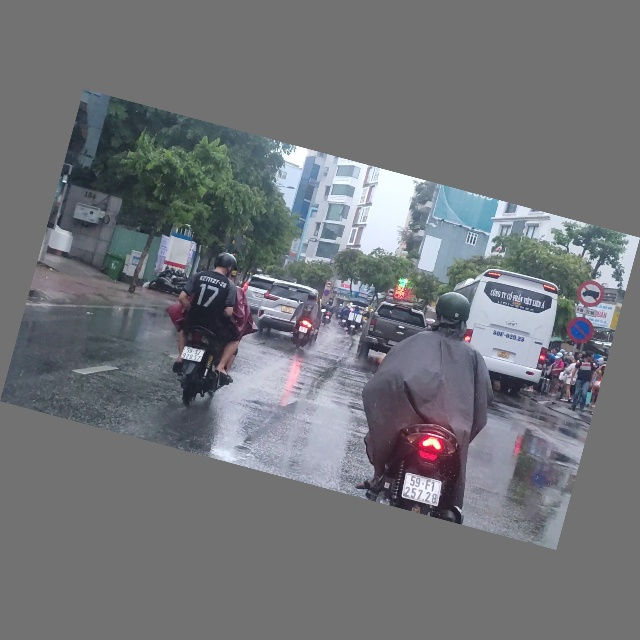P.106a*Xe tai: (574, 278, 607, 311), (386, 288, 396, 298), (326, 281, 333, 289)
P.131a: (564, 314, 598, 348), (323, 289, 330, 298)
